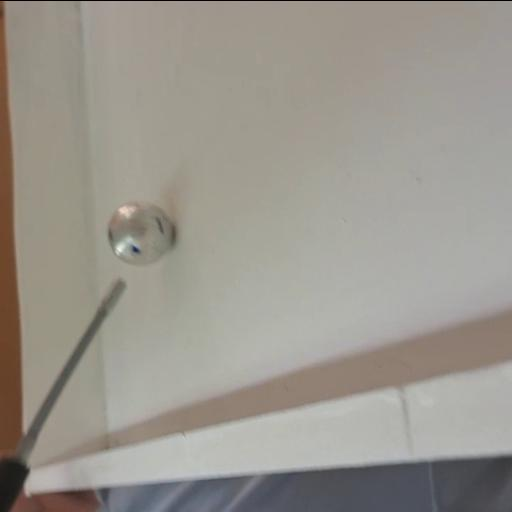alive: (107, 200, 175, 264)
